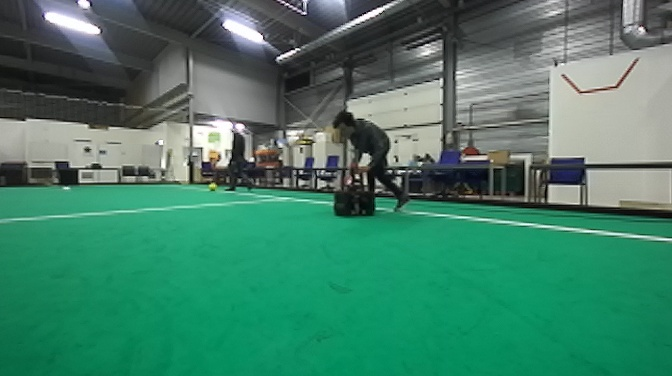ball: (208, 182, 219, 195)
human: (338, 103, 404, 214), (224, 123, 251, 193)
robot: (332, 147, 375, 219)
